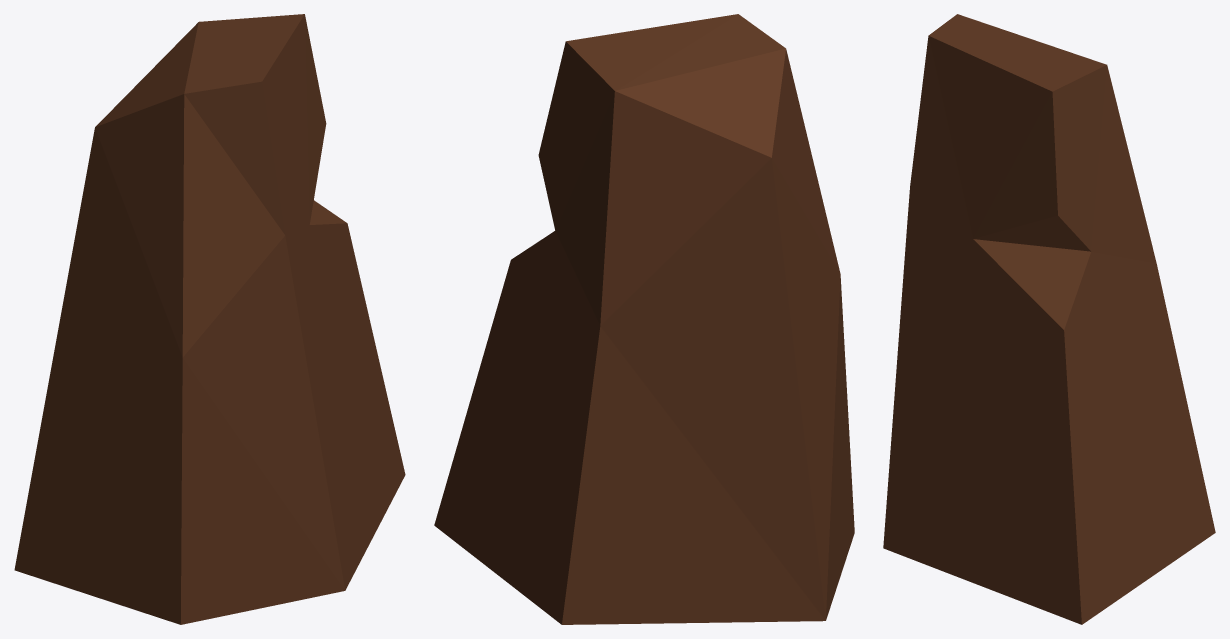
File: TreeStump2.fbx
3 views of the same model, side by side, from view 1: azimuth 30°, elevation 25°; view 2: azimuth 150°, elevation 25°; view 3: azimuth 270°, elevation 25° (orthographic). The views are drawn at different scales.
Parts seen in each view (by area): view 1: TreeStump2; view 2: TreeStump2; view 3: TreeStump2.
Boxes of the visible parts, x1,y1,x2,y2 form: TreeStump2: (14,14,405,624); TreeStump2: (434,14,854,624); TreeStump2: (883,14,1215,624).
Size of the model in its own units: 93.45 by 116 by 71.86.
